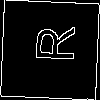R: (25, 25, 76, 63)
